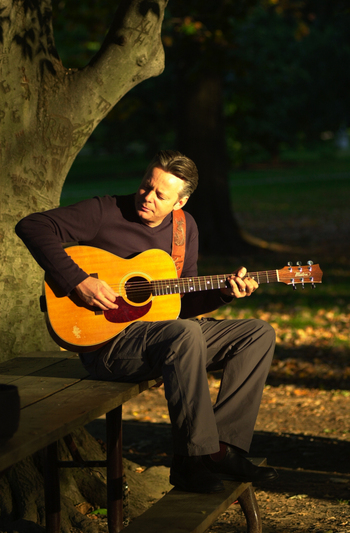guitar: (49, 241, 325, 348)
